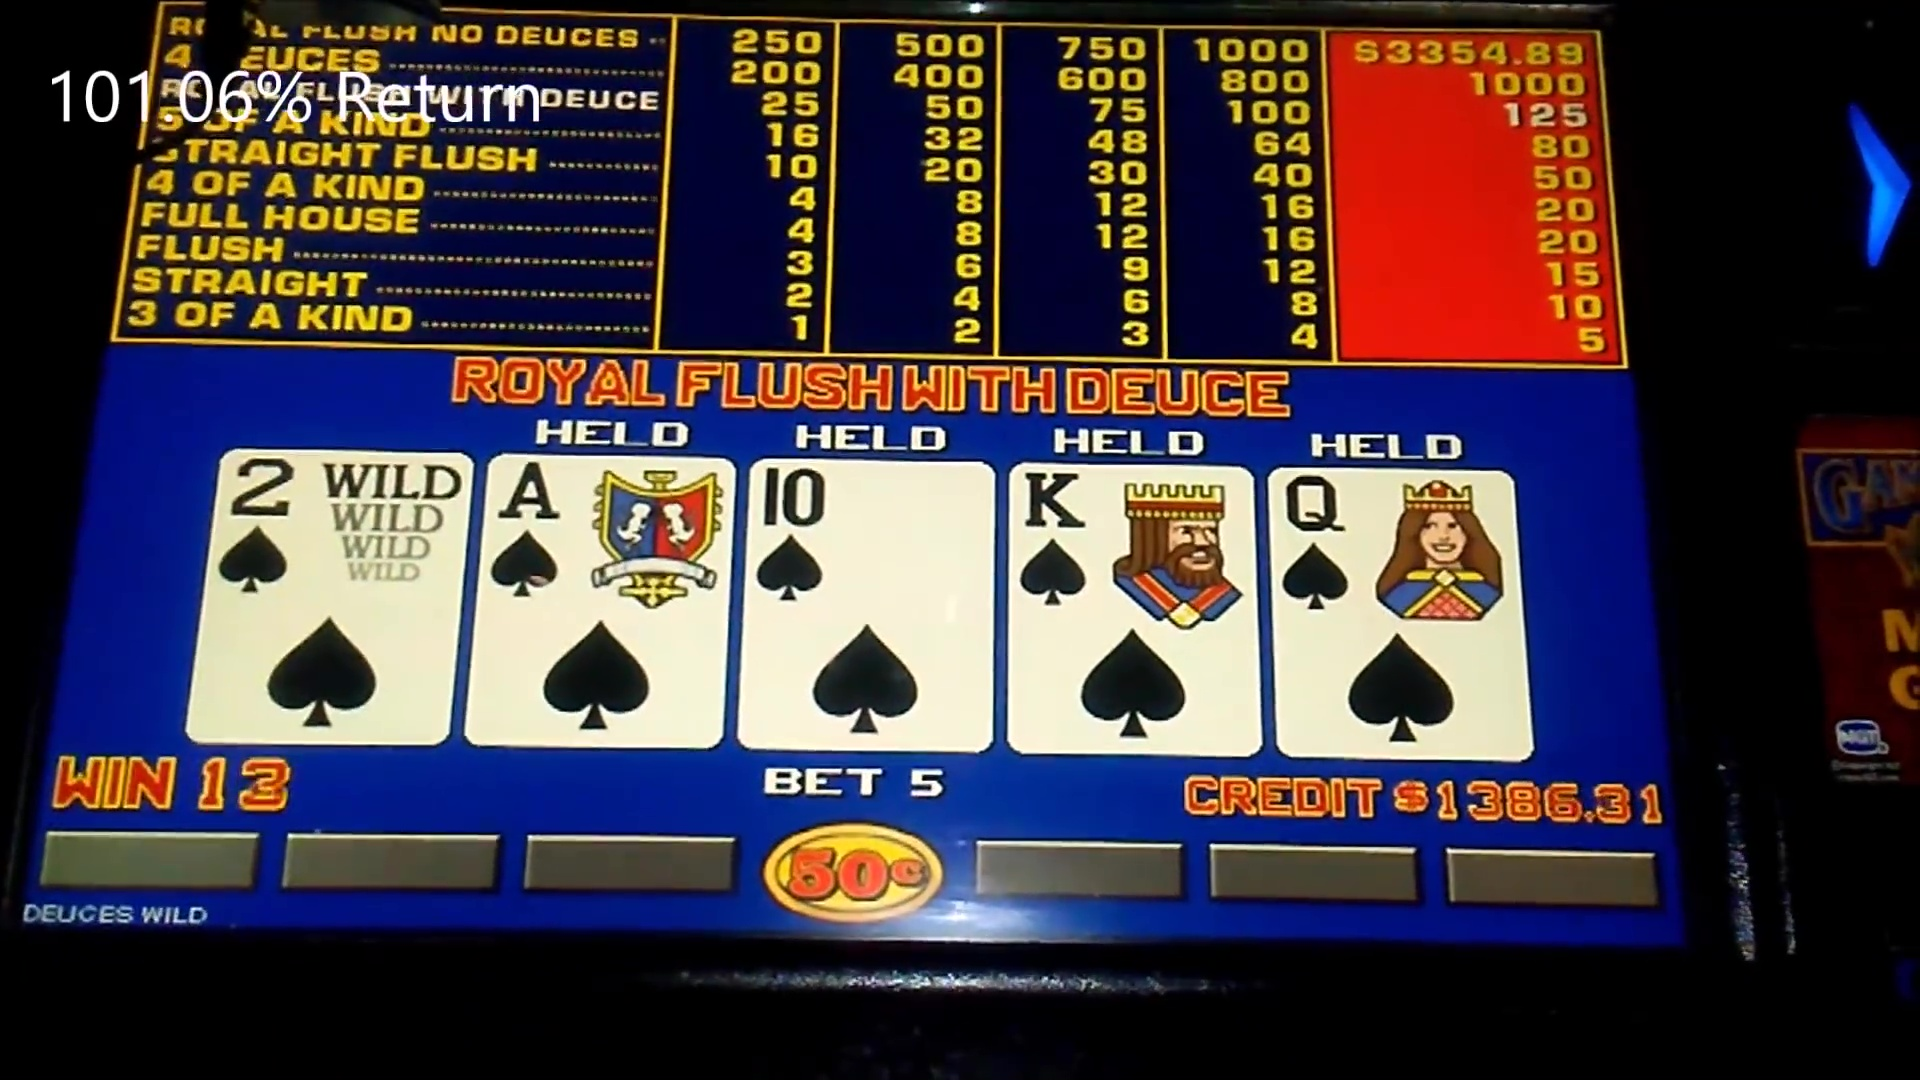2S: (216, 448, 462, 607)
AS: (477, 462, 735, 615)
KS: (1010, 469, 1257, 616)
QS: (1274, 473, 1513, 622)
TS: (746, 465, 993, 613)
